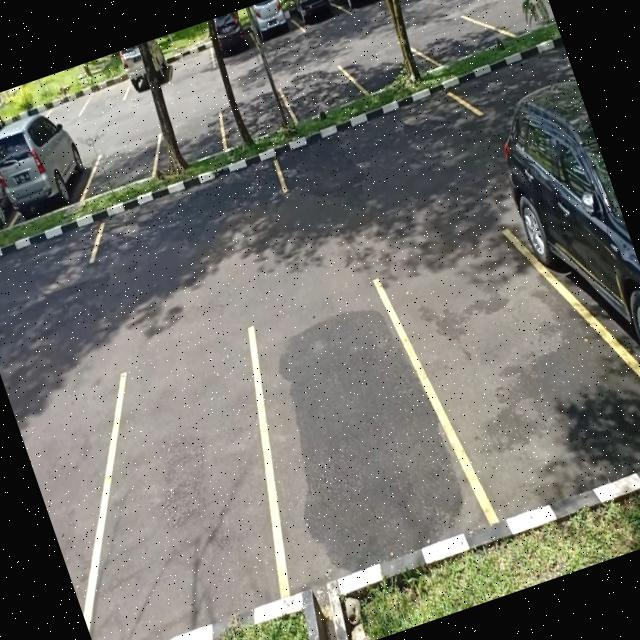empty: (50, 331, 316, 640), (221, 262, 478, 581), (383, 219, 632, 526), (75, 147, 293, 269), (268, 80, 479, 202), (78, 127, 168, 199), (345, 32, 433, 99), (278, 60, 365, 126), (150, 105, 232, 175), (212, 82, 296, 150), (416, 6, 502, 72), (70, 68, 134, 122), (159, 34, 219, 84)
occupied: (509, 139, 640, 475), (0, 120, 101, 225), (113, 37, 175, 99), (199, 7, 260, 66)
